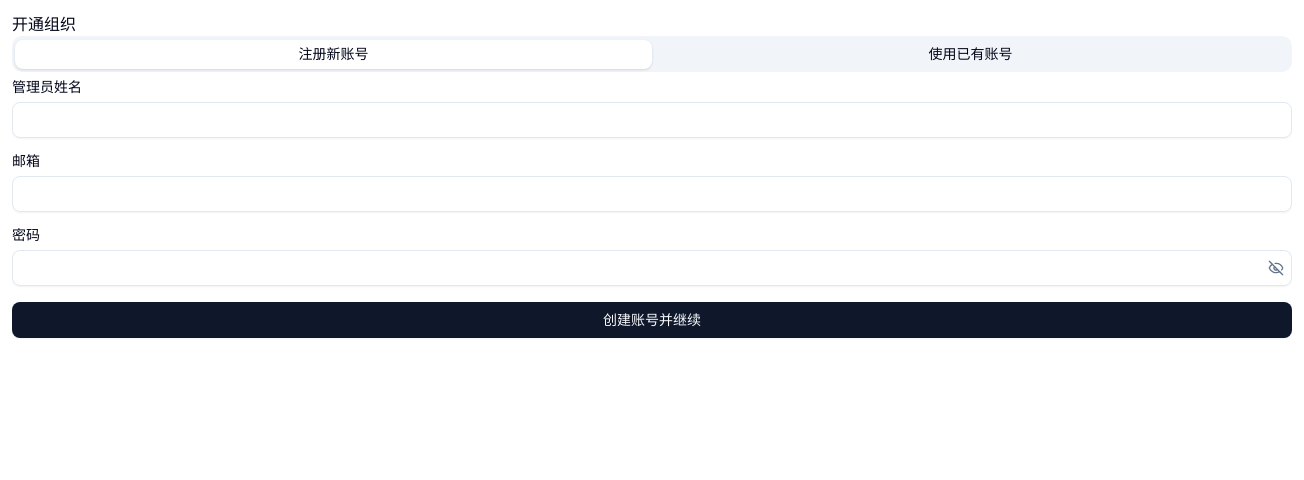
a rejected registration clears its password and does not put it in mutation cache
Type "新用户" into the field labelled "管理员姓名".
click(652, 120); type("新用户")  # box [12,102,1292,138]
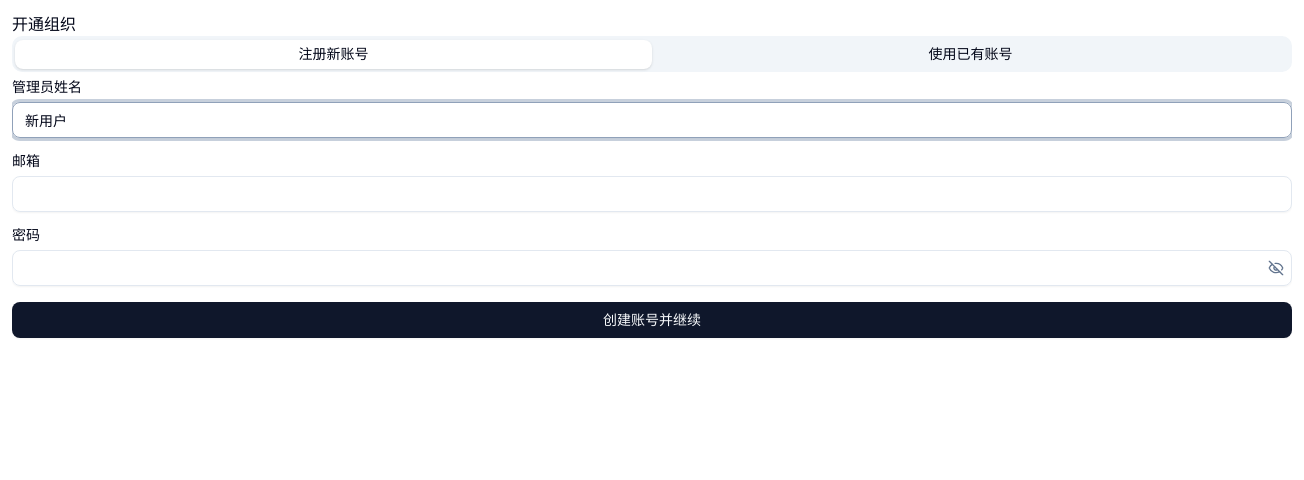
Type "new@example.com" into the field labelled "邮箱".
click(652, 194); type("new@example.com")  # box [12,176,1292,212]
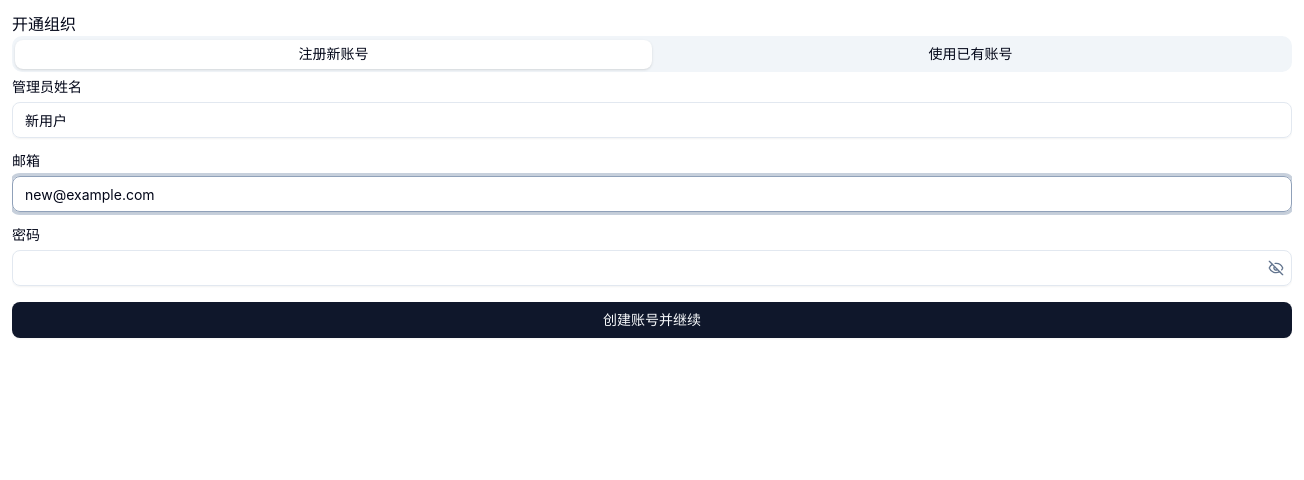
Type "Test-password-123456" into the password field labelled "密码".
click(652, 268); type("Test-password-123456")  # box [12,250,1292,286]
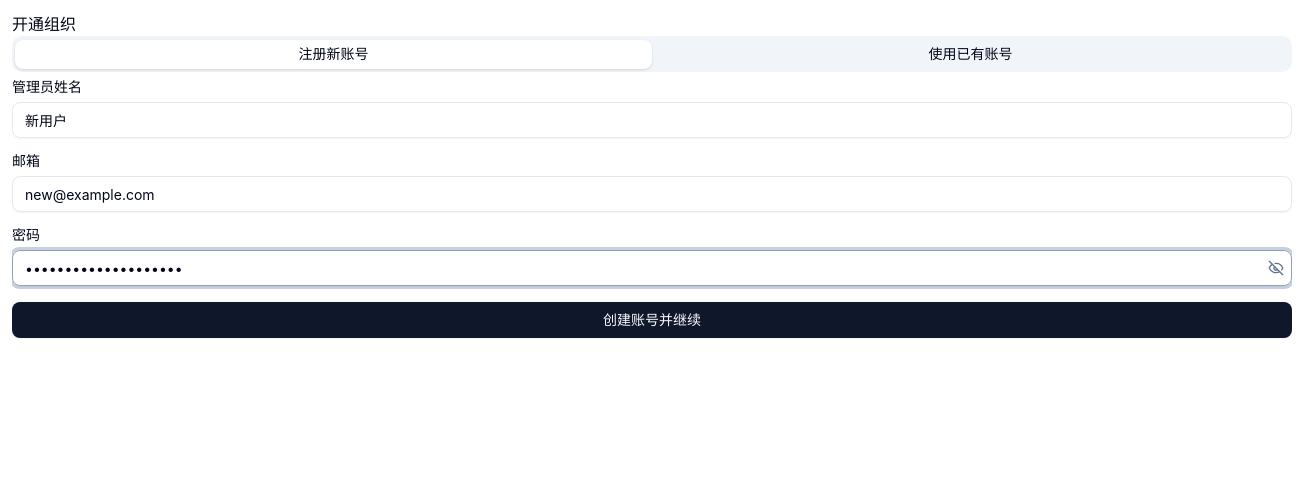
Click the button "创建账号并继续".
click(652, 320)  # box [12,302,1292,338]
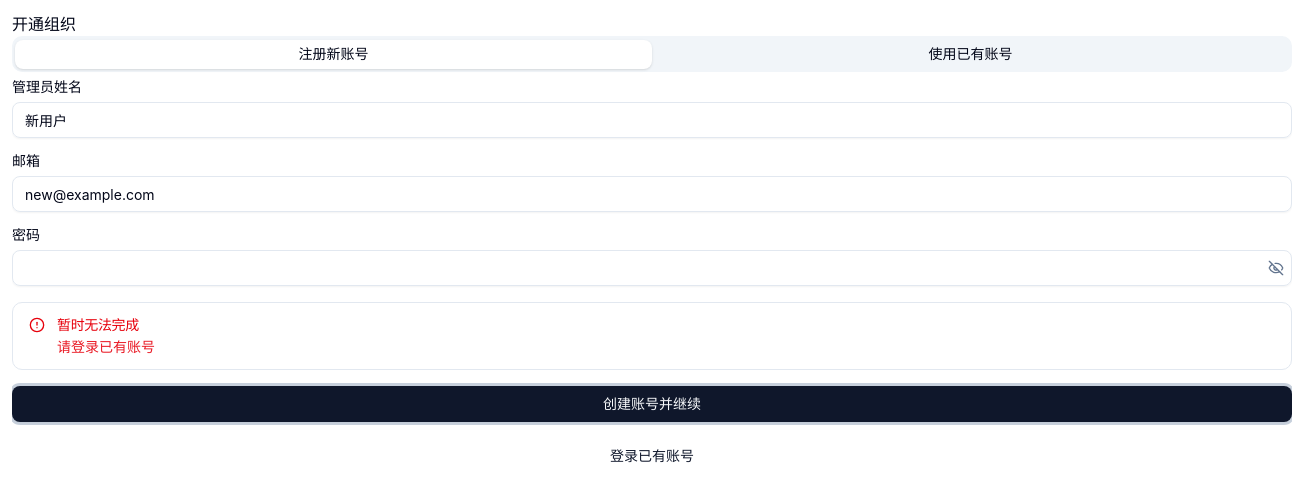
expect the text "请登录已有账号" is shown: met, box [57,337,155,357]
expect the password field labelled "密码" is empty: met, box [12,250,1292,286]
